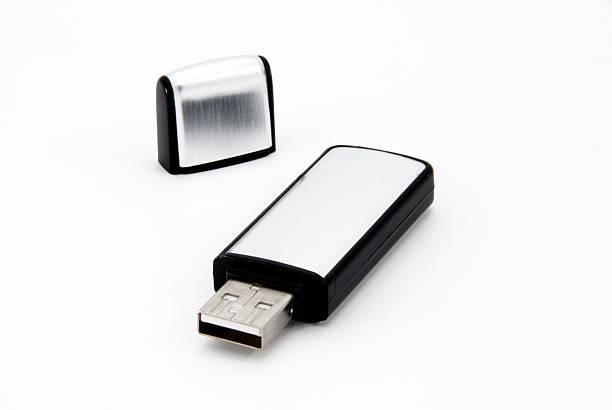USB Flash Drive: (197, 145, 435, 350)
